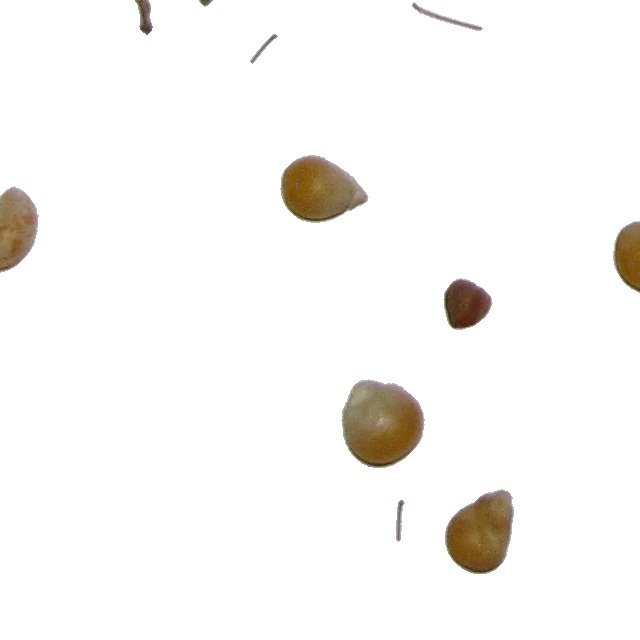buckwheat: (442, 277, 494, 331)
dill: (411, 1, 484, 32), (395, 499, 406, 543)
mais: (340, 378, 426, 469), (279, 154, 370, 224), (444, 488, 515, 575), (612, 205, 640, 297)
other: (252, 33, 282, 65)
